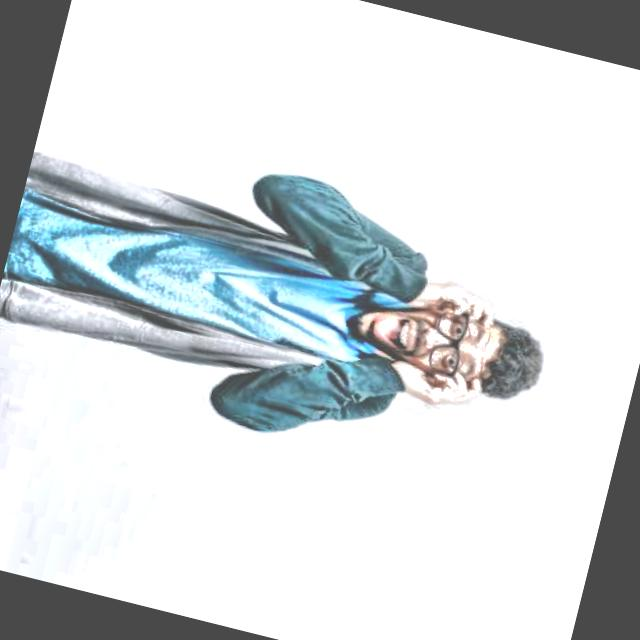surprised: (340, 275, 557, 424)
